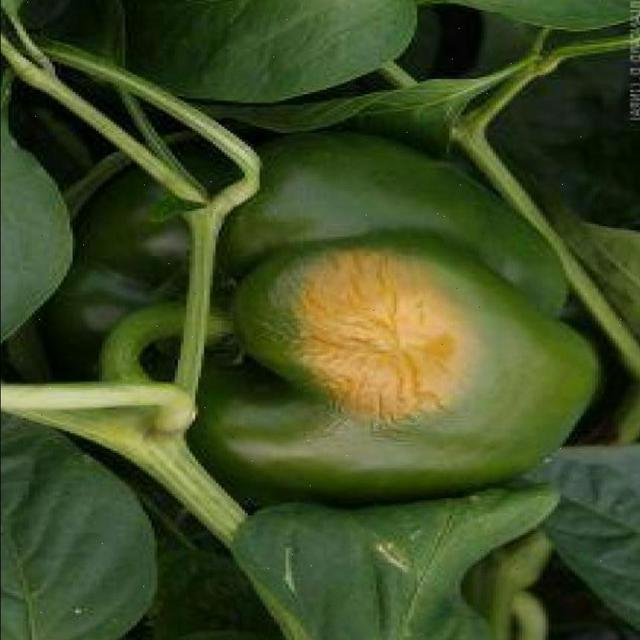Sunscald Fruit: (172, 156, 322, 292)
